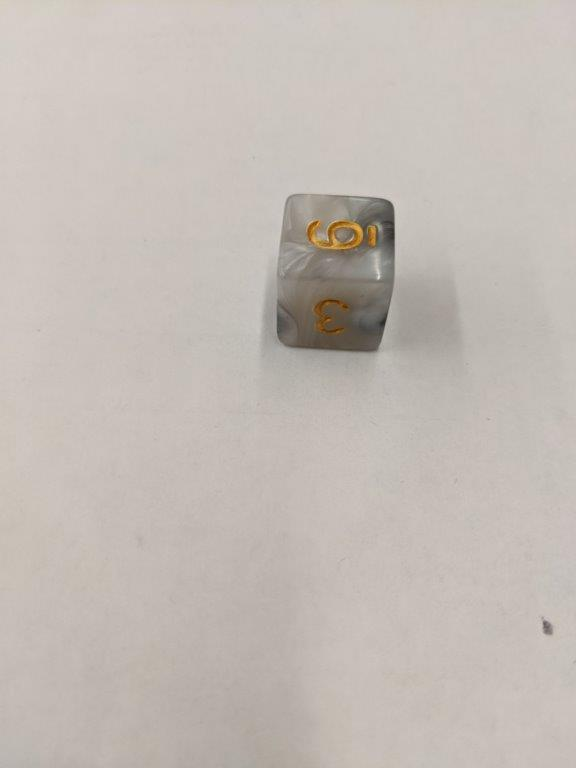d6-6: (273, 193, 395, 354)
